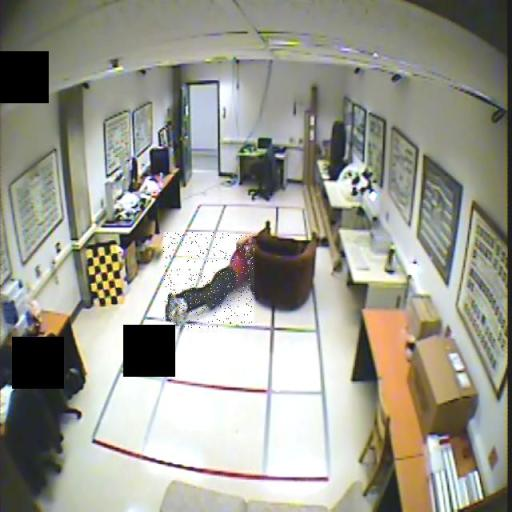Fall: (164, 233, 255, 329)
